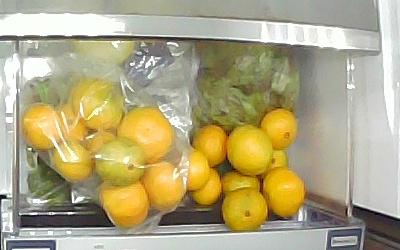tangerine: (228, 124, 272, 177), (261, 168, 305, 220), (223, 187, 268, 232), (262, 107, 298, 151), (193, 125, 226, 167), (190, 168, 222, 207), (178, 148, 207, 190), (222, 171, 260, 198), (267, 149, 291, 171)
tangerine_vinyl: (118, 107, 174, 161), (73, 79, 124, 133), (95, 138, 148, 187), (98, 179, 149, 229), (142, 163, 184, 212), (20, 103, 60, 153), (52, 143, 94, 184), (55, 106, 89, 144), (85, 132, 117, 159)
